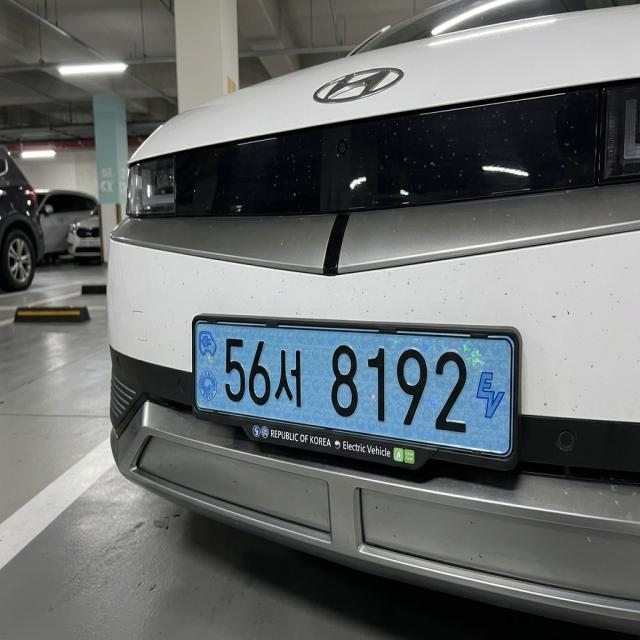car: (184, 303, 542, 493)
carev: (470, 329, 520, 452), (191, 328, 223, 415)
